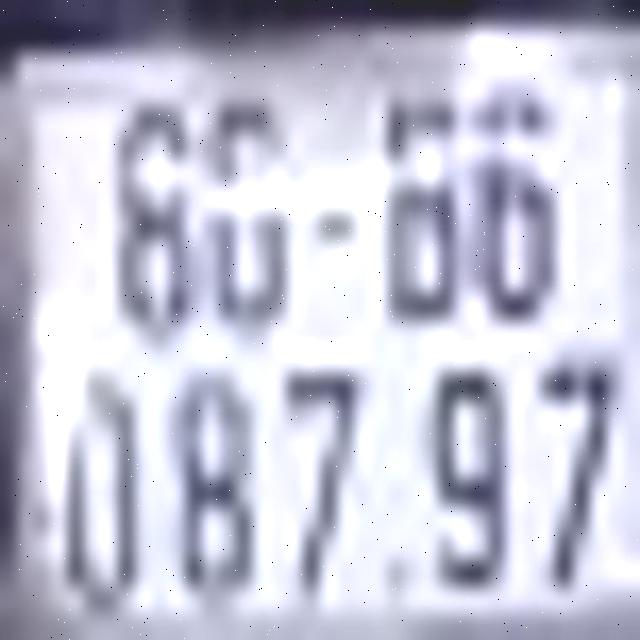0: (207, 93, 293, 332), (62, 371, 142, 614)
6: (474, 84, 560, 321)
7: (278, 362, 362, 598), (534, 360, 614, 592)
8: (113, 97, 194, 343), (176, 368, 256, 599)
9: (427, 363, 511, 592)
B: (382, 93, 462, 322)
